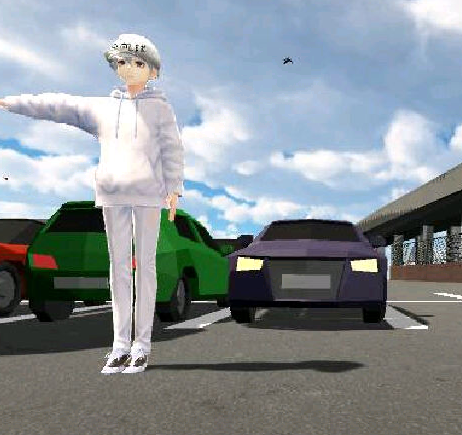singleP_left: (1, 30, 182, 376)
